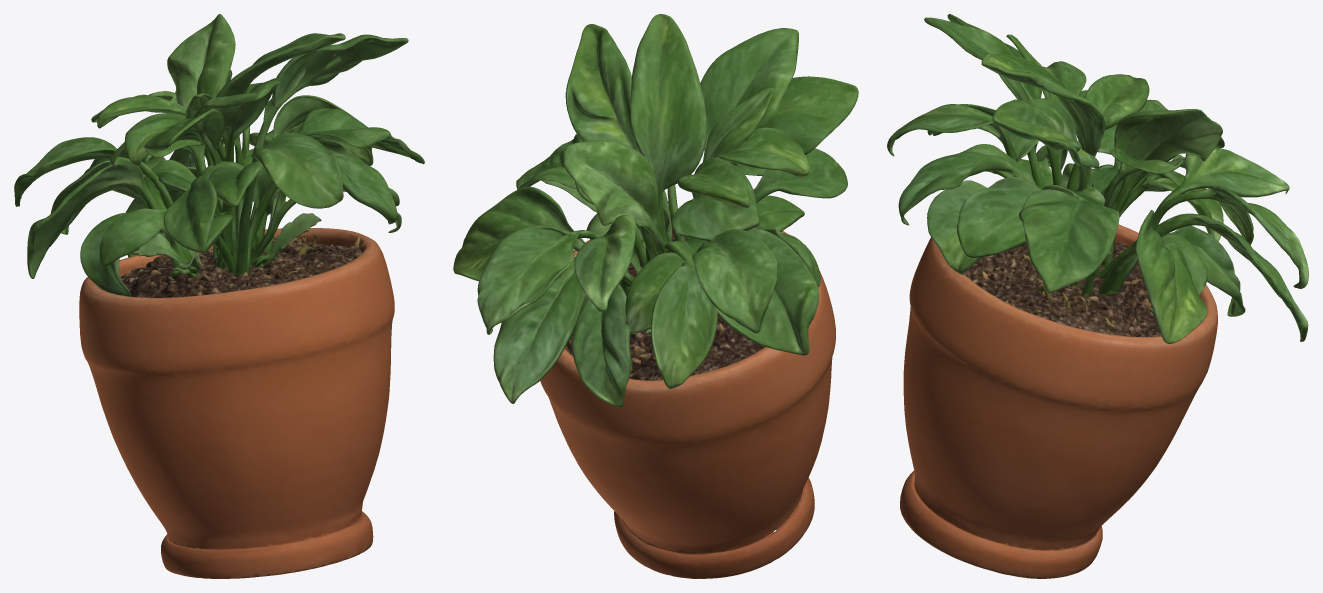
Rendered from pixal3d.glb.
The picture shows the model from 3 angles, left to right: view 1: azimuth 30°, elevation 25°; view 2: azimuth 150°, elevation 25°; view 3: azimuth 270°, elevation 25°; orthographic projection. The views are drawn at different scales.
Visible parts, largest first — view 1: world; view 2: world; view 3: world.
Boxes of the visible parts, x1=… form: world: x1=14, y1=14, x2=424, y2=578; world: x1=453, y1=14, x2=858, y2=578; world: x1=887, y1=14, x2=1308, y2=578.
Bounding box in the file's own units: 0.665 × 0.9382 × 0.685.
1 material, 1 textured.
